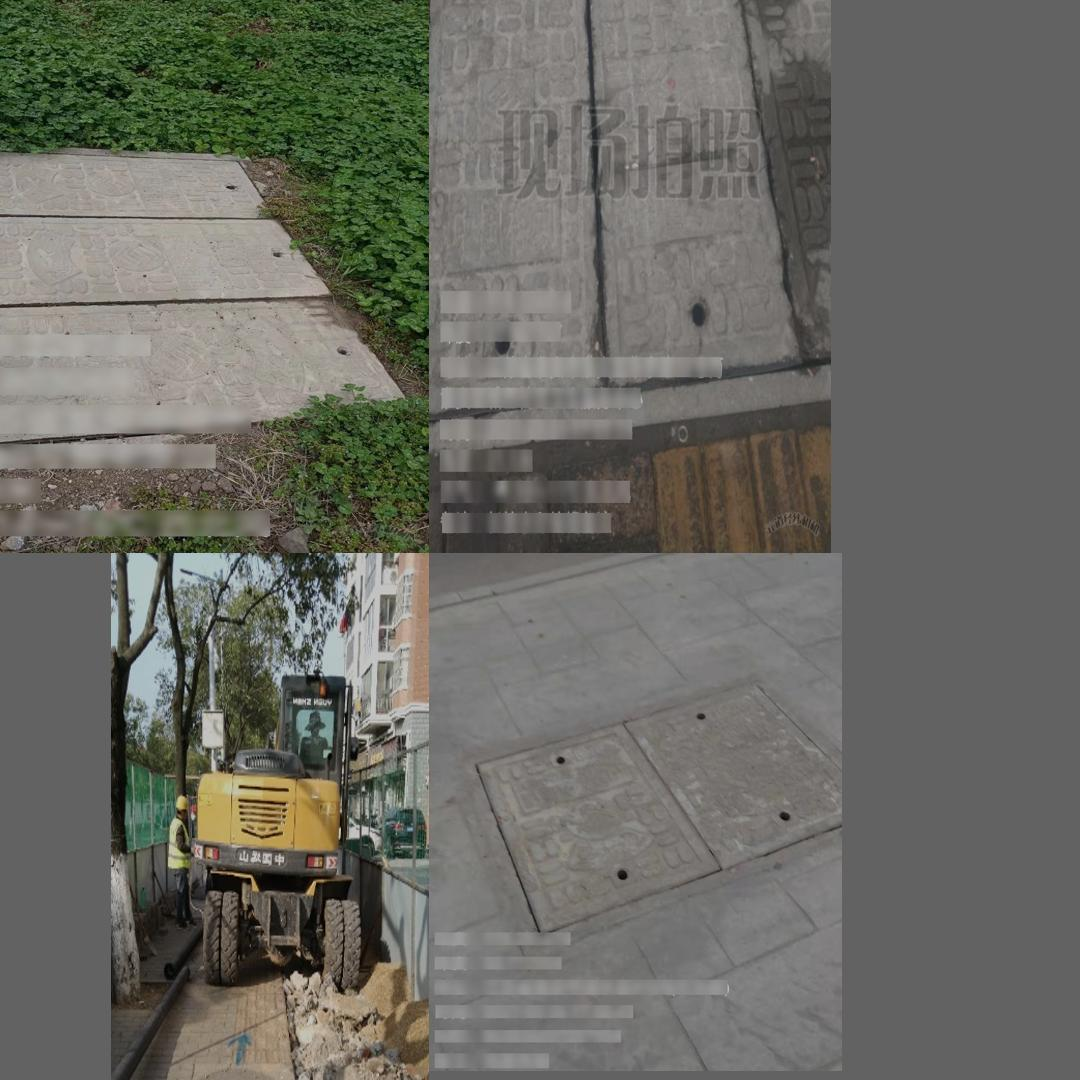good: (431, 0, 829, 400), (0, 138, 409, 476), (459, 676, 842, 947), (184, 1065, 280, 1080)
